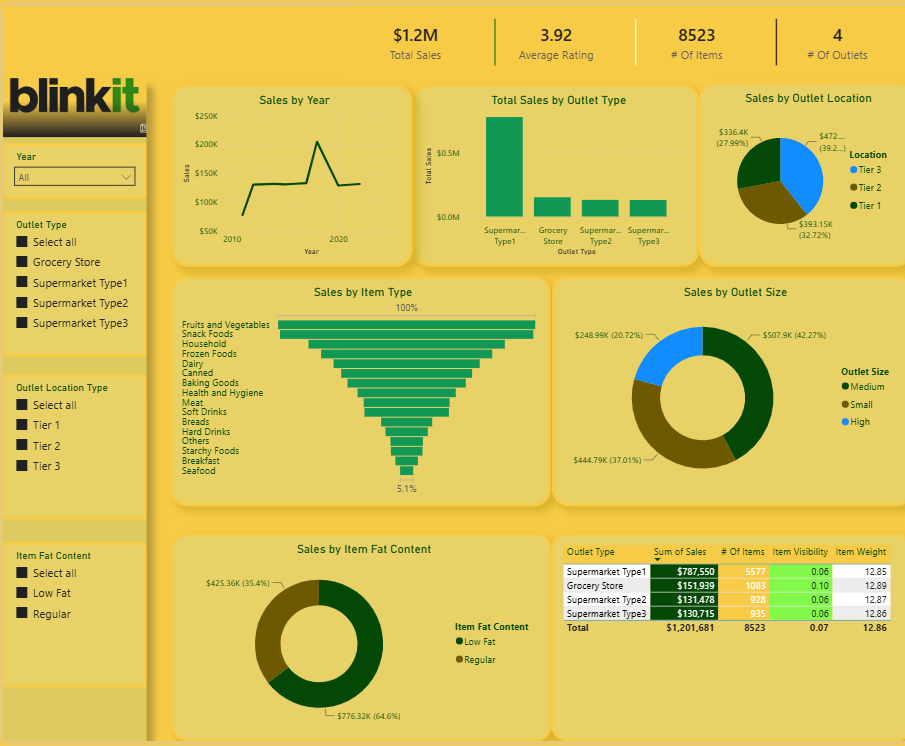

The dashboard page shown, as its layout file describes it:
{"tool":"powerbi","page":{"name":"Page 1","canvas":[1300,1050],"ordinal":0},"visuals":[{"type":"cardVisual","fields":{"Data":["Sum(BlinkIT Grocery Data.Sales)","Avg(BlinkIT Grocery Data.Rating)","CountNonNull(BlinkIT Grocery Data.Item Identifier)","Count(BlinkIT Grocery Data.Outlet Type)"]},"box":[483,0,817,103.5],"z":0},{"type":"clusteredColumnChart","fields":{"Category":["BlinkIT Grocery Data.Outlet Type"],"Y":["Sum(BlinkIT Grocery Data.Sales)"]},"box":[585,111.2,408.8,261.2],"z":1000},{"type":"funnel","title":"Sales by Item Type","fields":{"Category":["BlinkIT Grocery Data.Item Type"],"Y":["Sum(BlinkIT Grocery Data.Sales)"]},"box":[238.8,385,543.8,328.8],"z":2000},{"type":"lineChart","fields":{"Category":["BlinkIT Grocery Data.Outlet Establishment Year"],"Y":["Sum(BlinkIT Grocery Data.Sales)"]},"box":[240,111.2,345,261.2],"z":3000},{"type":"pieChart","title":"Sales by Outlet Location","fields":{"Category":["BlinkIT Grocery Data.Outlet Location Type"],"Y":["Sum(BlinkIT Grocery Data.Sales)"]},"box":[993.8,108.8,305,263.8],"z":4000},{"type":"shape","box":[0,111.2,205,940],"z":5000},{"type":"slicer","fields":{"Values":["BlinkIT Grocery Data.Outlet Establishment Year"]},"box":[0,195,205,80],"z":6000},{"type":"donutChart","title":"Sales by Outlet Size","fields":{"Category":["BlinkIT Grocery Data.Outlet Size"],"Y":["Sum(BlinkIT Grocery Data.Sales)"]},"box":[783.8,385,516.2,328.8],"z":7000},{"type":"slicer","fields":{"Values":["BlinkIT Grocery Data.Outlet Type"]},"box":[0,292.5,205,207.5],"z":8000},{"type":"donutChart","title":"Sales by Item Fat Content","fields":{"Category":["BlinkIT Grocery Data.Item Fat Content"],"Y":["Sum(BlinkIT Grocery Data.Sales)"]},"box":[240,752.5,543.8,297.5],"z":9000},{"type":"tableEx","fields":{"Values":["BlinkIT Grocery Data.Outlet Type","Sum(BlinkIT Grocery Data.Sales)","BlinkIT Grocery Data.Item Identifier","BlinkIT Grocery Data.Item Visibility","Avg(BlinkIT Grocery Data.Item Weight)"]},"box":[782.5,752.5,516.2,297.5],"z":10000},{"type":"slicer","fields":{"Values":["BlinkIT Grocery Data.Outlet Location Type"]},"box":[0,525,205,207.5],"z":10001},{"type":"slicer","fields":{"Values":["BlinkIT Grocery Data.Item Fat Content"]},"box":[0,765,205,207.5],"z":10002},{"type":"image","box":[0,23.8,205,211.2],"z":10003}]}

Visuals, with their boxes in screenshot pixels (x1, y1, x2, y2), scaled from the page's 1300x1050 canvas onto the 905x746 screenshot:
cardVisual - Sum(BlinkIT Grocery Data.Sales) x Avg(BlinkIT Grocery Data.Rating): rect(336, 0, 904, 74)
clusteredColumnChart - BlinkIT Grocery Data.Outlet Type x Sum(BlinkIT Grocery Data.Sales): rect(407, 79, 692, 265)
"Sales by Item Type" funnel: rect(166, 274, 545, 507)
lineChart - BlinkIT Grocery Data.Outlet Establishment Year x Sum(BlinkIT Grocery Data.Sales): rect(167, 79, 407, 265)
"Sales by Outlet Location" pieChart: rect(692, 77, 904, 265)
shape: rect(0, 79, 143, 745)
slicer - BlinkIT Grocery Data.Outlet Establishment Year: rect(0, 139, 143, 195)
"Sales by Outlet Size" donutChart: rect(546, 274, 904, 507)
slicer - BlinkIT Grocery Data.Outlet Type: rect(0, 208, 143, 355)
"Sales by Item Fat Content" donutChart: rect(167, 535, 546, 745)
tableEx - BlinkIT Grocery Data.Outlet Type x Sum(BlinkIT Grocery Data.Sales): rect(545, 535, 904, 745)
slicer - BlinkIT Grocery Data.Outlet Location Type: rect(0, 373, 143, 520)
slicer - BlinkIT Grocery Data.Item Fat Content: rect(0, 544, 143, 691)
image: rect(0, 17, 143, 167)
